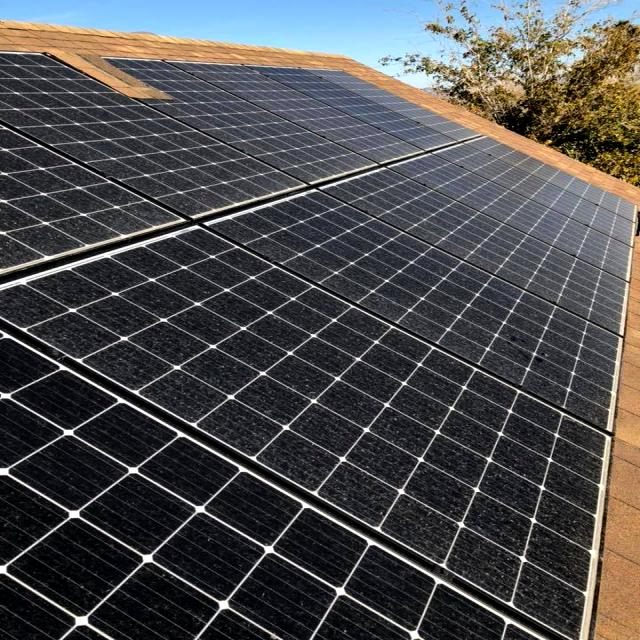dust: (34, 464, 229, 640), (267, 404, 413, 559), (292, 248, 460, 372), (86, 280, 228, 420), (448, 502, 578, 632), (0, 128, 175, 220), (516, 262, 624, 408), (208, 86, 324, 180)
